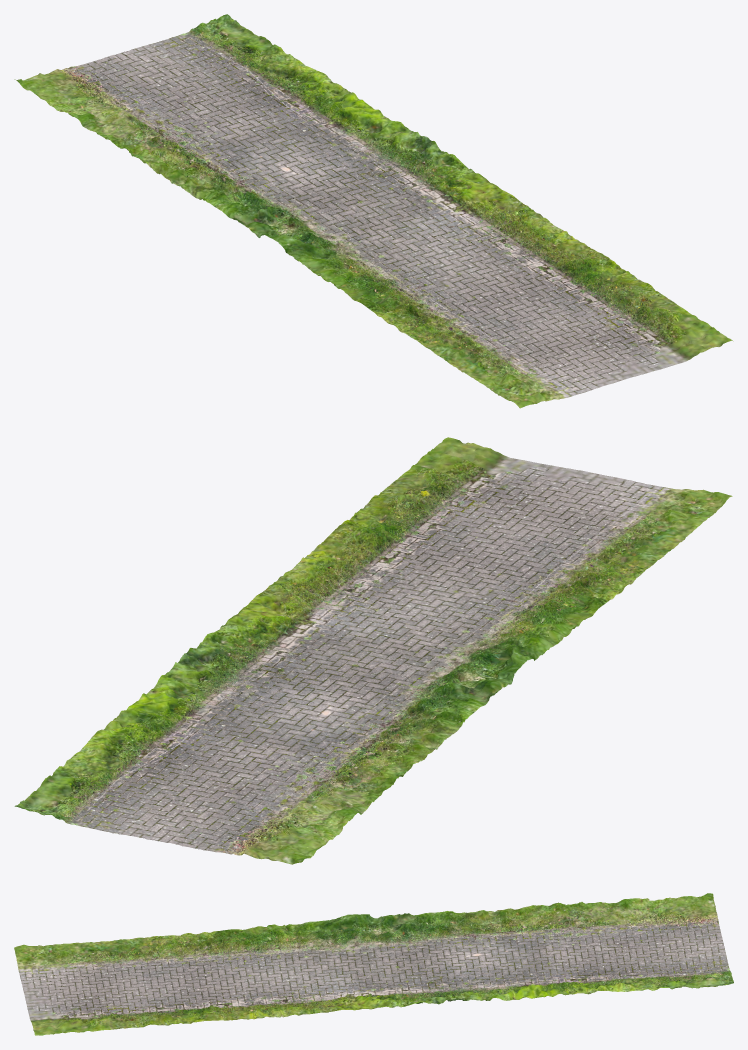
The model's file is pavement_in_the_park.glb.
The picture shows the model from 3 angles, top to bottom: view 1: azimuth 30°, elevation 25°; view 2: azimuth 150°, elevation 25°; view 3: azimuth 270°, elevation 25°; orthographic projection. The views are drawn at different scales.
Visible parts, largest first — view 1: Object_2; view 2: Object_2; view 3: Object_2.
Boxes of the visible parts, <box> form: Object_2: <box>14,14,733,408</box>; Object_2: <box>14,437,732,864</box>; Object_2: <box>14,893,733,1035</box>.
Size of the model in its own units: 2.79 by 0.3126 by 7.15.
1 material, 1 textured.
